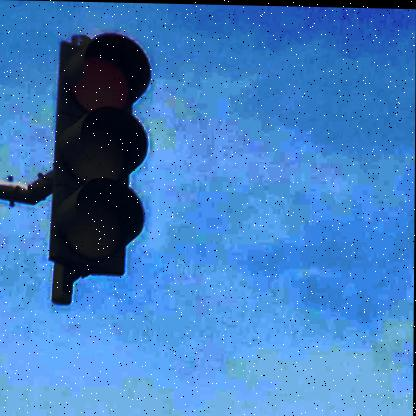Traffic Light -Red-: (53, 33, 152, 278)
